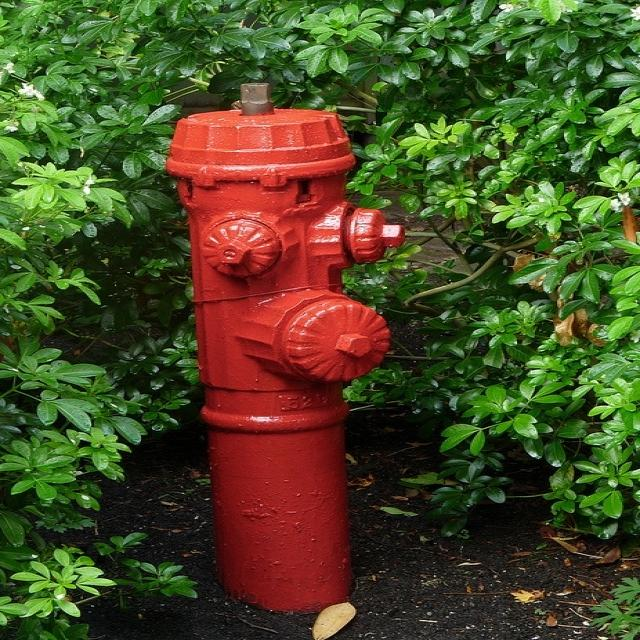fire_hydrant: (115, 64, 454, 616)
